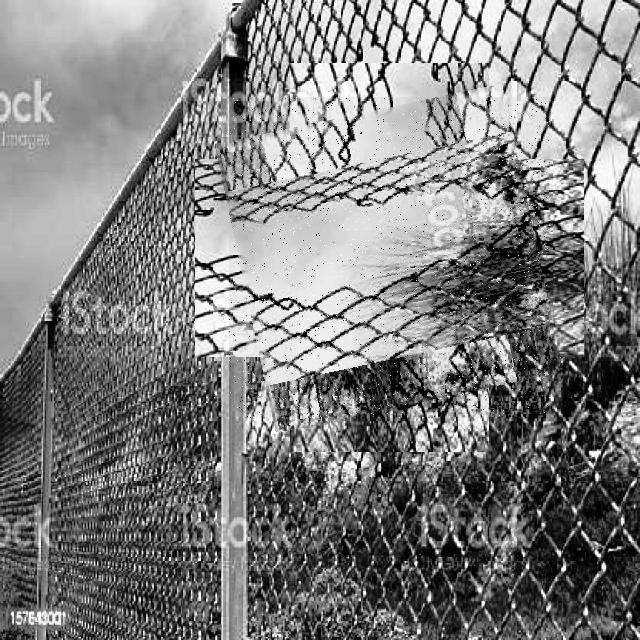anomaly-fence: (229, 97, 550, 418)
